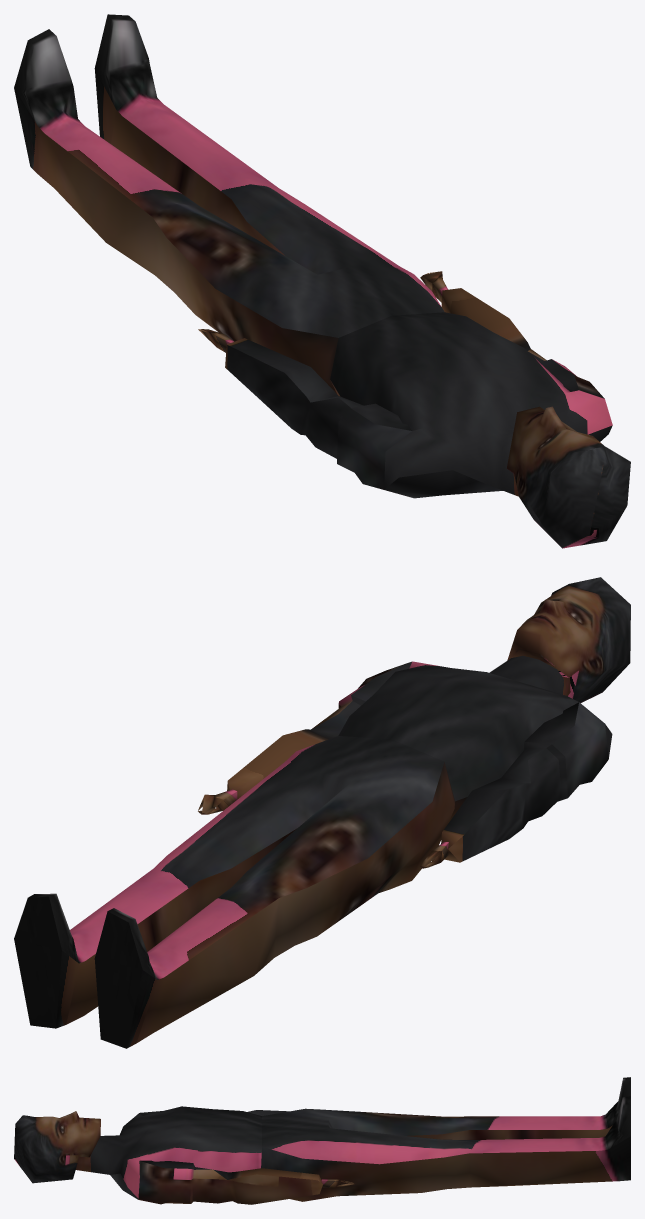
The model's file is npc_raka.obj.
3 views of the same model, one above another, from view 1: azimuth 30°, elevation 25°; view 2: azimuth 150°, elevation 25°; view 3: azimuth 270°, elevation 25° (orthographic). The views are drawn at different scales.
Parts seen in each view (by area): view 1: npc_raka; view 2: npc_raka; view 3: npc_raka.
Part boxes in pixels (x1=…): npc_raka: x1=14, y1=14, x2=630, y2=548; npc_raka: x1=14, y1=577, x2=630, y2=1048; npc_raka: x1=14, y1=1077, x2=630, y2=1204.
Bounding box in the file's own units: 0.4684 × 0.3141 × 1.75.
Materials: 1 (1 with a texture image).
